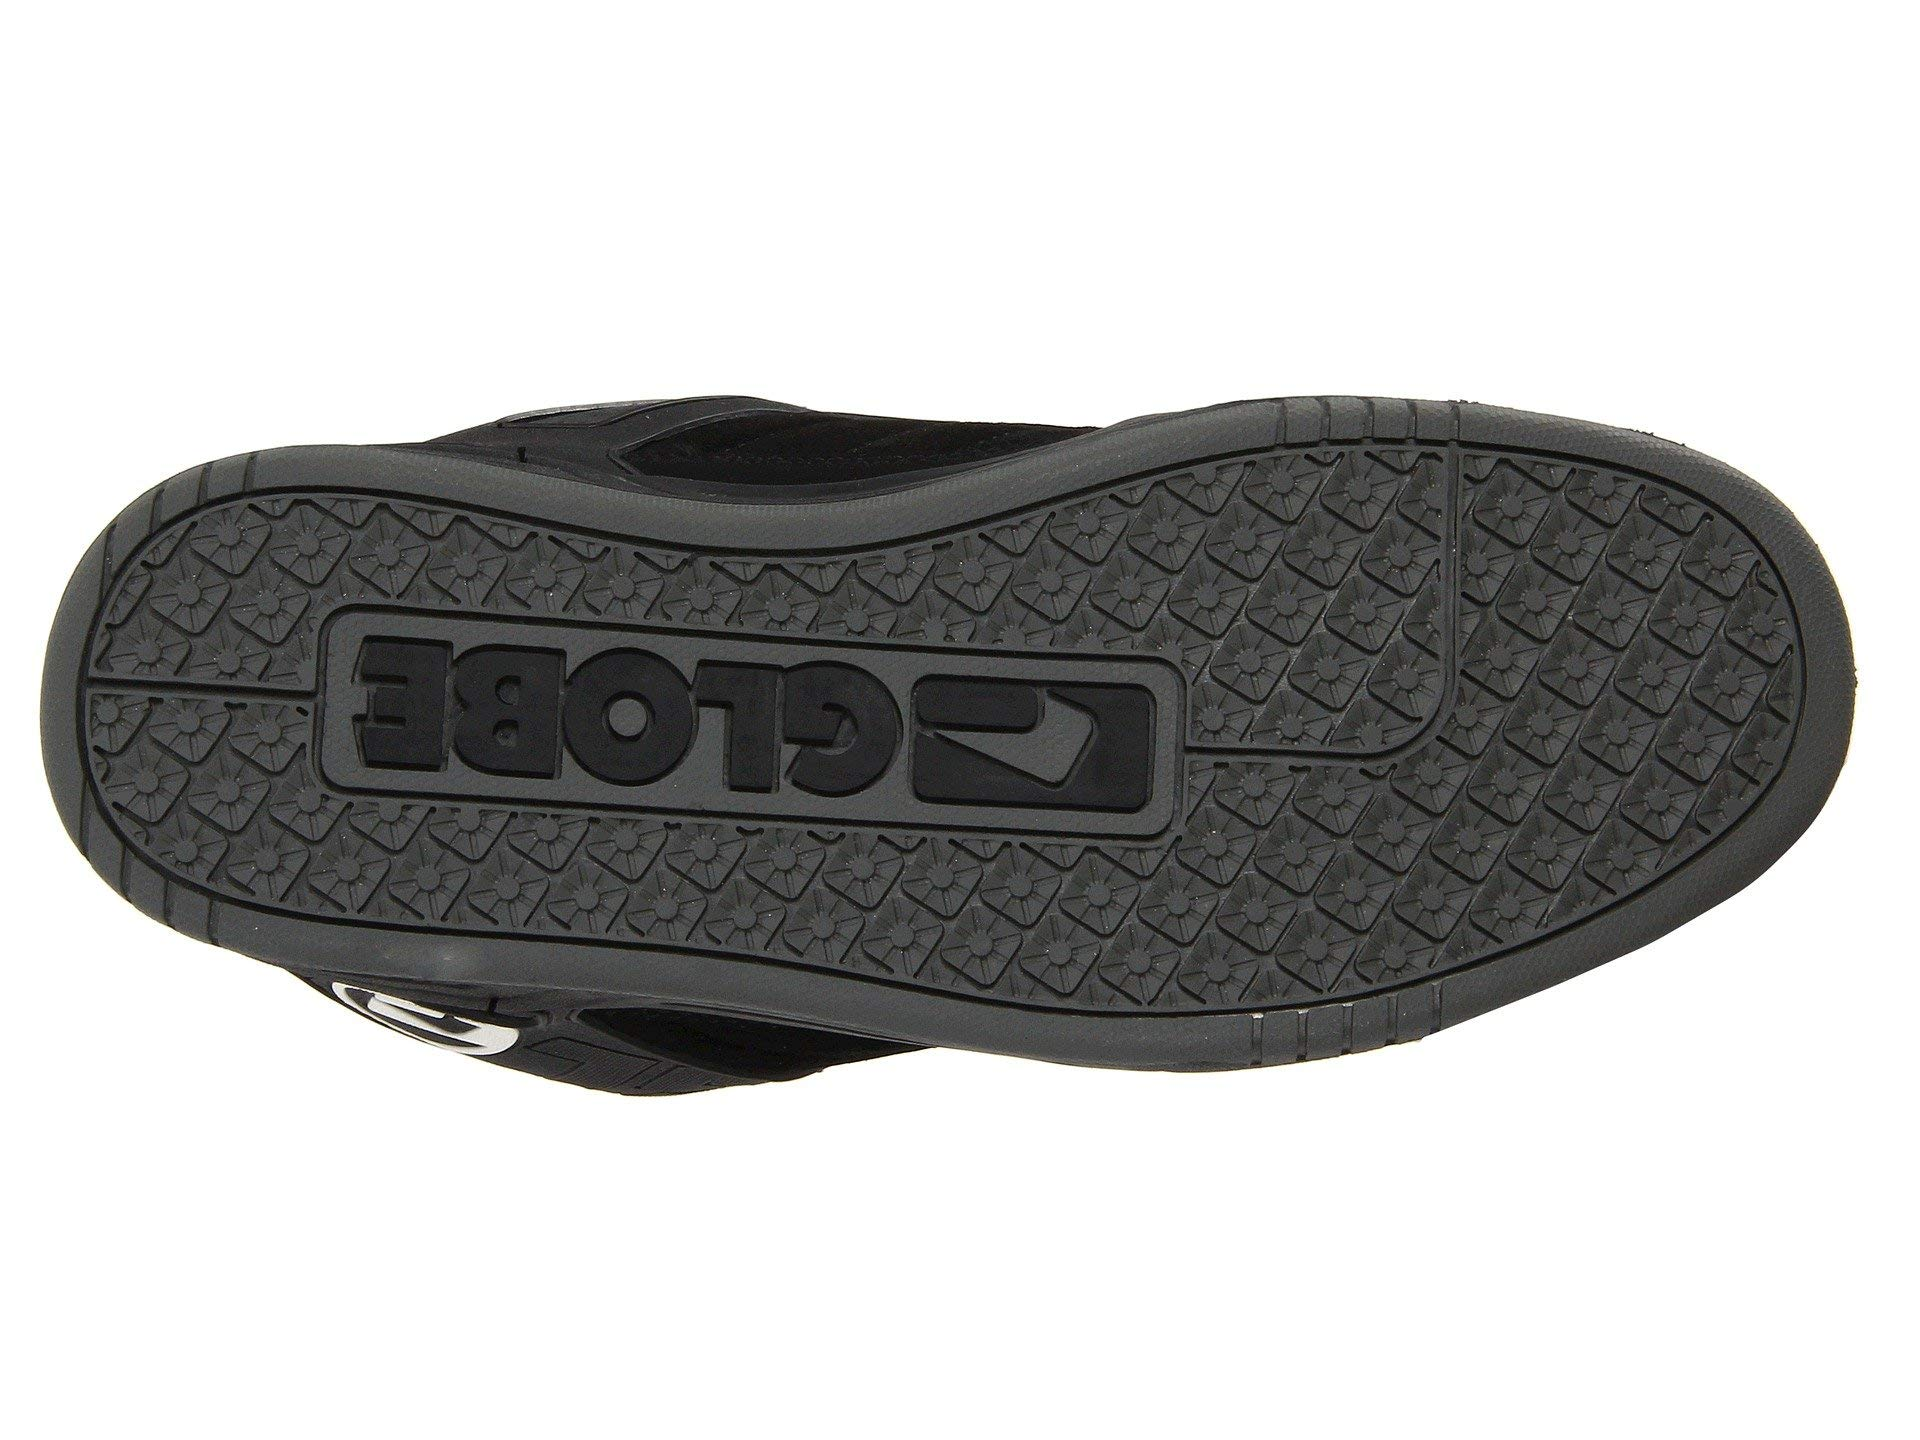circle: (296, 566, 706, 918), (1182, 510, 1525, 850), (1554, 575, 1773, 811)
quad: (296, 566, 706, 918), (1182, 510, 1525, 850), (1554, 575, 1773, 811)
text: (296, 566, 706, 918)
triangle: (296, 566, 706, 918), (1182, 510, 1525, 850), (1554, 575, 1773, 811)
